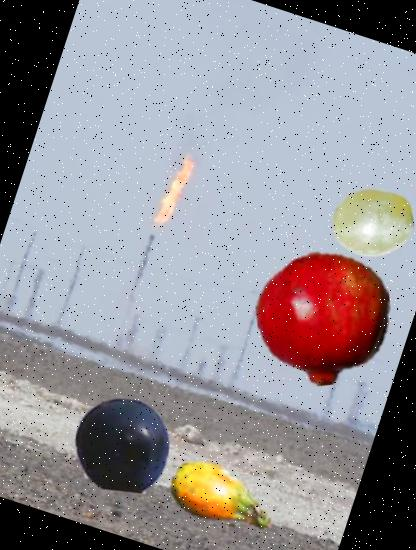Cactus: (151, 428, 293, 550)
Grape: (62, 384, 182, 504), (319, 170, 416, 275)
Pomegranate: (239, 233, 408, 402)
